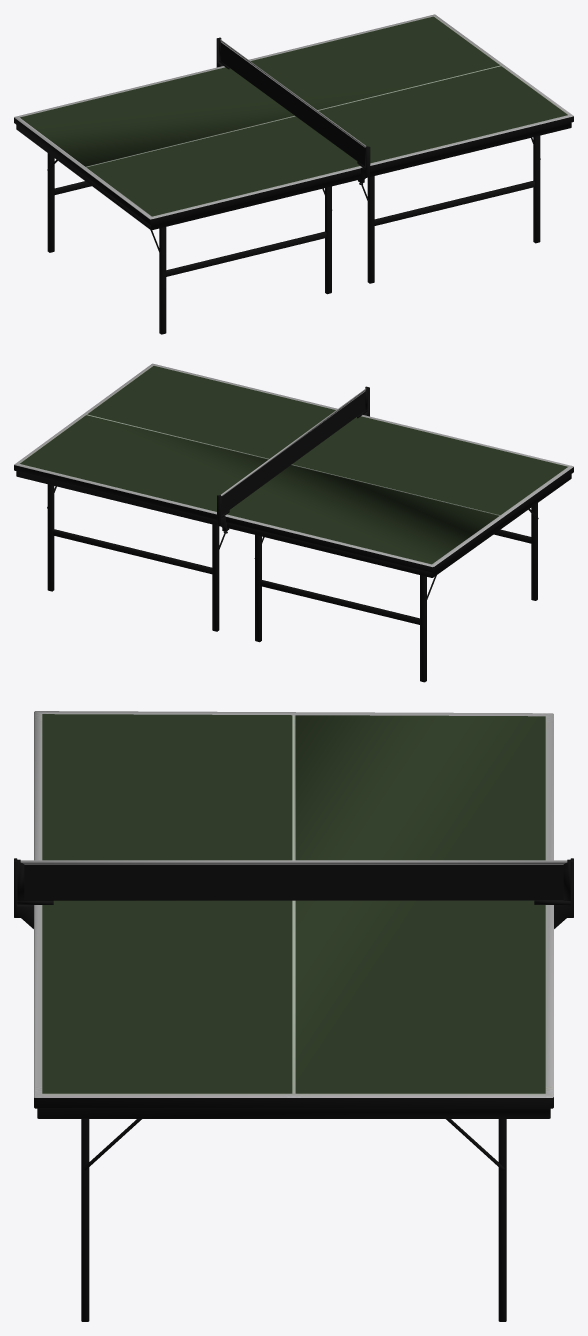
Rendered from TableTennisTable.glb.
3 views of the same model, one above another, from view 1: azimuth 30°, elevation 25°; view 2: azimuth 150°, elevation 25°; view 3: azimuth 270°, elevation 25° (orthographic). The views are drawn at different scales.
Parts seen in each view (by area): view 1: Table Tennis Table; view 2: Table Tennis Table; view 3: Table Tennis Table.
Part boxes in pixels (x1,y1,x2,y2): Table Tennis Table: [14, 14, 573, 334]; Table Tennis Table: [14, 363, 573, 682]; Table Tennis Table: [14, 711, 573, 1321].
Size of the model in its own units: 282 by 98.1 by 172.
1 material, 1 textured.
